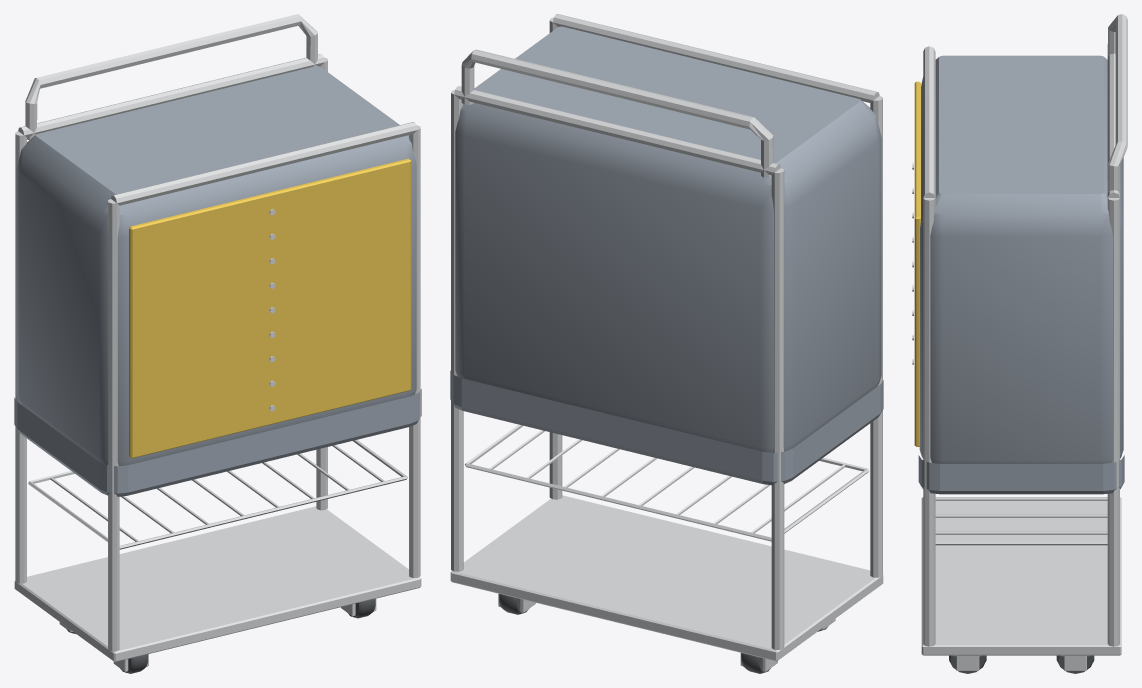
File: laundrette-and-cleaning-linen-trolley-covered-504ca8ab__25533.glb
3 views of the same model, side by side, from view 1: azimuth 30°, elevation 25°; view 2: azimuth 150°, elevation 25°; view 3: azimuth 270°, elevation 25° (orthographic). The views are drawn at different scales.
Visible parts, largest first — view 1: linen-trolley-covered; view 2: linen-trolley-covered; view 3: linen-trolley-covered.
Part boxes in pixels (x1,y1,x2,y2): linen-trolley-covered: (14, 14, 421, 673); linen-trolley-covered: (450, 14, 883, 673); linen-trolley-covered: (912, 14, 1127, 673).
Bounding box in the file's own units: 0.955 × 1.55 × 0.5603.
